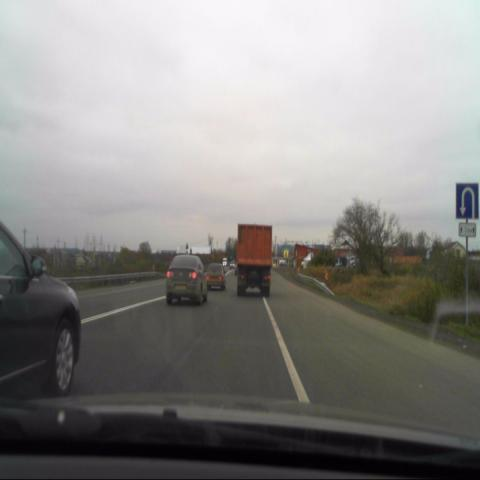6_3_1: (455, 184, 480, 222)
